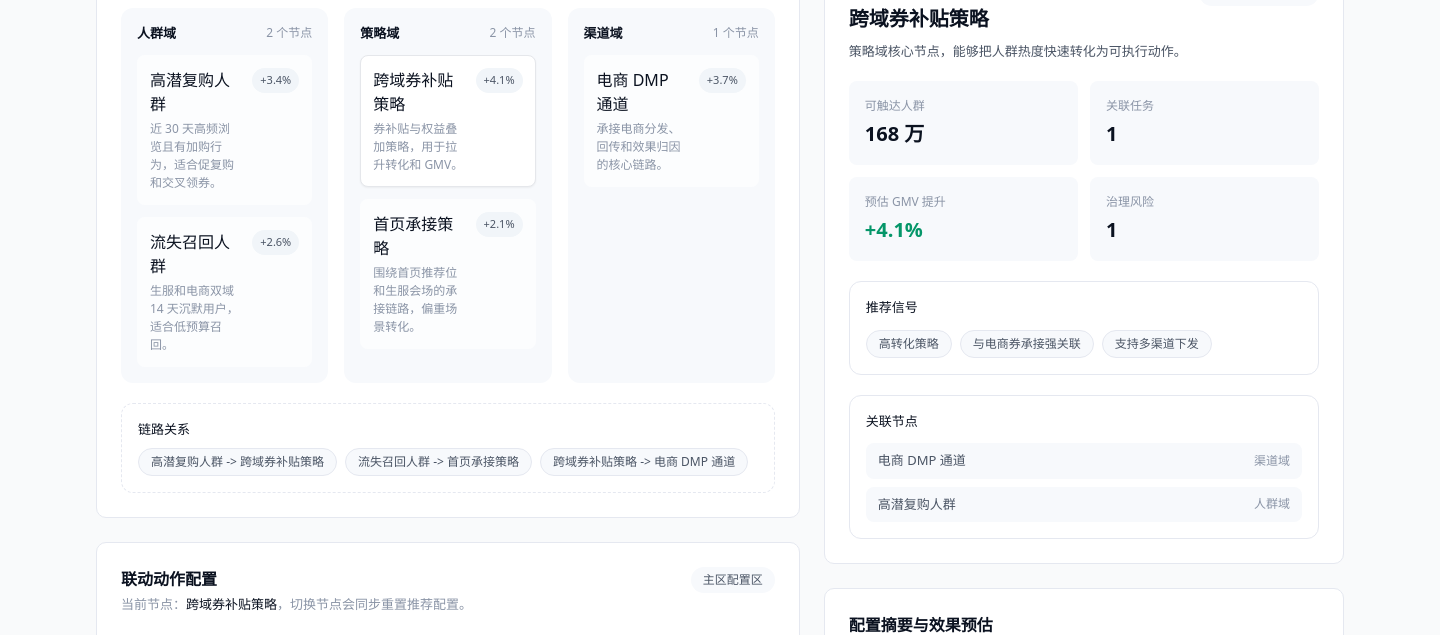
it: MarketWorkbench › 点击拓扑节点后同步更新右侧洞察和配置区
The width and height of the screenshot is (1440, 635).
(page scrolled)
Click the button "流失召回人群 生服和电商双域 14 天沉默用户，适合低预算召回。 +2.6%" at (225, 292), box [137,217,312,367]
(page scrolled)
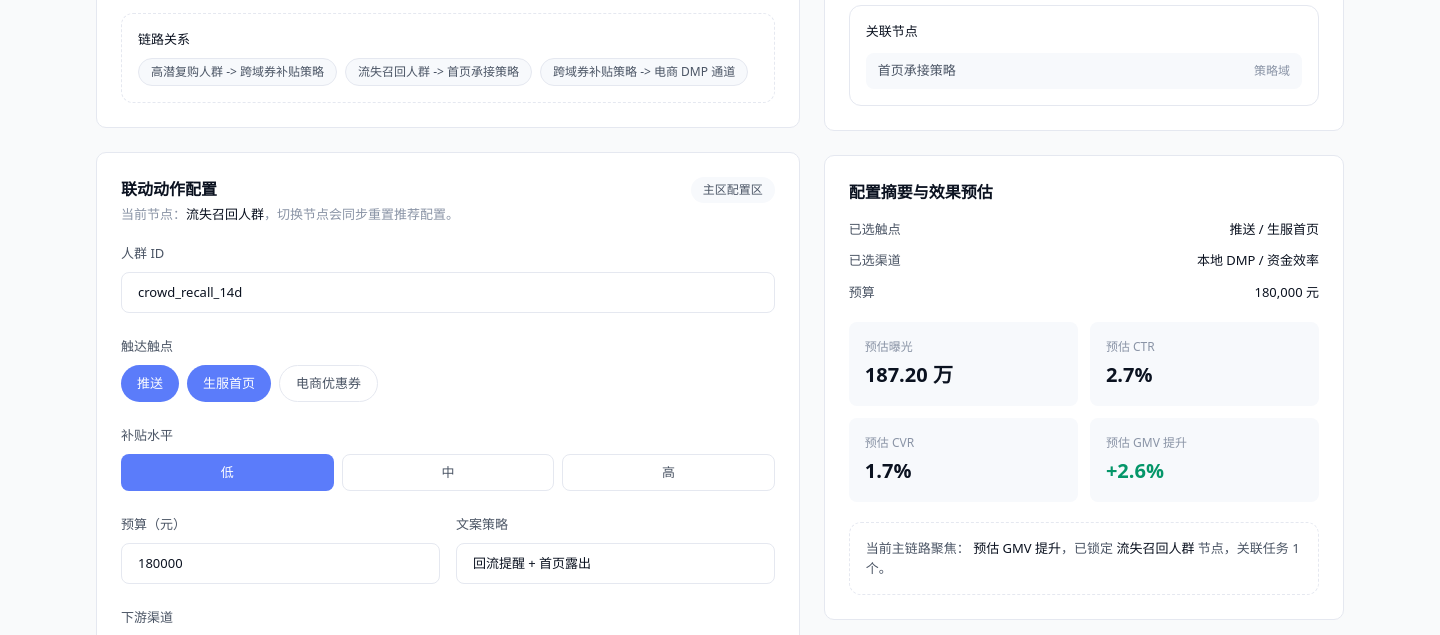
Check: the field showing "crowd_recall_14d" below "人群 ID" is shown, box [121,272,775,313]
